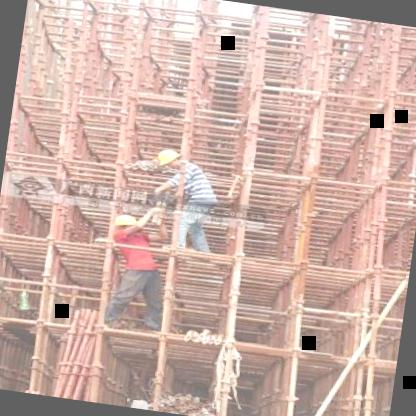helmet: (107, 210, 144, 238), (152, 142, 184, 173)
